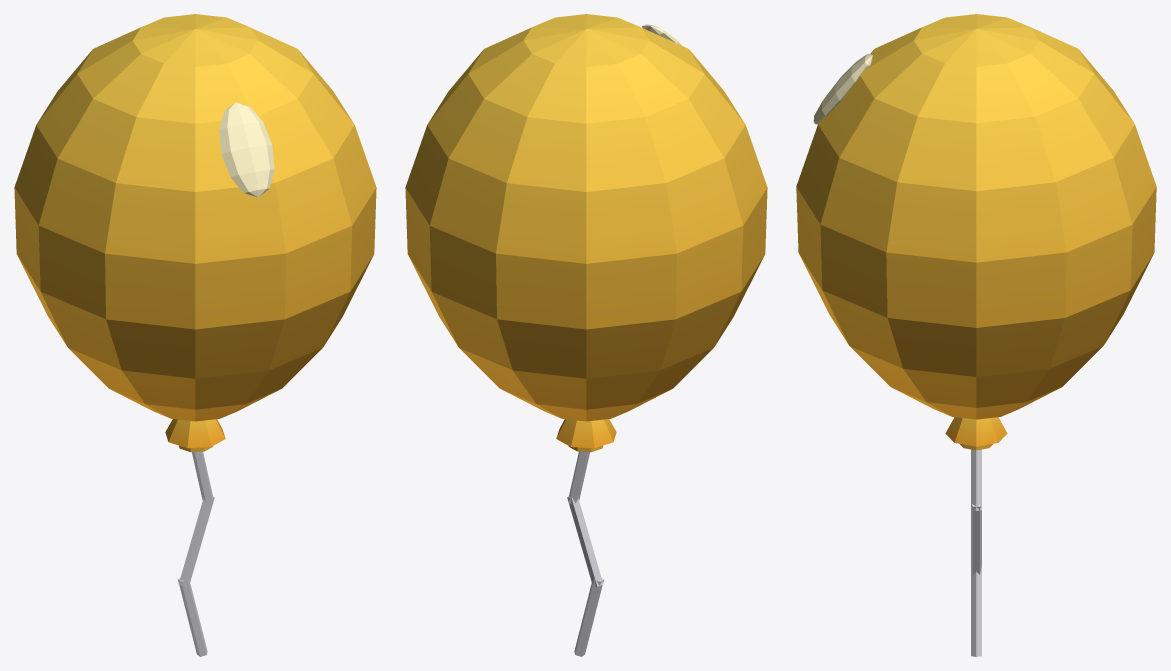
The model's file is balloon_yellow.glb.
The picture shows the model from 3 angles, left to right: view 1: azimuth 30°, elevation 25°; view 2: azimuth 150°, elevation 25°; view 3: azimuth 270°, elevation 25°; orthographic projection.
Visible parts, largest first — view 1: balloon, string; view 2: balloon, string; view 3: balloon, string.
Part boxes in pixels (x1,y1,x2,y2): balloon: (14, 14, 376, 452); string: (178, 451, 214, 656); balloon: (405, 14, 767, 452); string: (567, 451, 603, 656); balloon: (796, 14, 1156, 450); string: (971, 449, 981, 656).
Bounding box in the file's own units: 0.9848 × 1.88 × 0.9848.
Materials: 1 (1 with a texture image).
